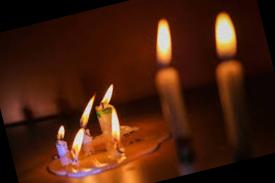Fire: (142, 14, 182, 76), (206, 7, 240, 60), (73, 90, 100, 136), (104, 104, 126, 144), (64, 128, 88, 160), (95, 78, 116, 108), (51, 122, 70, 142)
